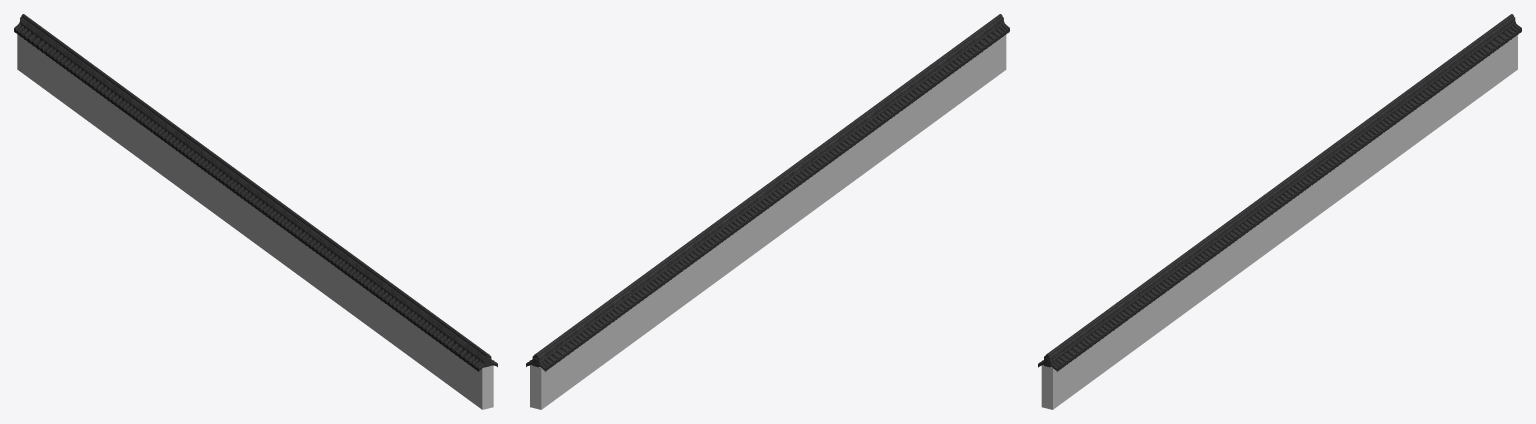
Rendered from SM_JSH_HG_StoneWallH_Splines_37.fbx.
3 views of the same model, side by side, from view 1: azimuth 30°, elevation 25°; view 2: azimuth 150°, elevation 25°; view 3: azimuth 330°, elevation 25° (orthographic).
Visible parts, largest first — view 1: SM_JSH_HG_StoneWallH_Splines_37; view 2: SM_JSH_HG_StoneWallH_Splines_37; view 3: SM_JSH_HG_StoneWallH_Splines_37.
Part boxes in pixels (<box>): SM_JSH_HG_StoneWallH_Splines_37: <box>14,14,497,409</box>; SM_JSH_HG_StoneWallH_Splines_37: <box>526,14,1009,409</box>; SM_JSH_HG_StoneWallH_Splines_37: <box>1038,14,1521,409</box>.
Size of the model in its own units: 65.49 by 2769 by 178.
